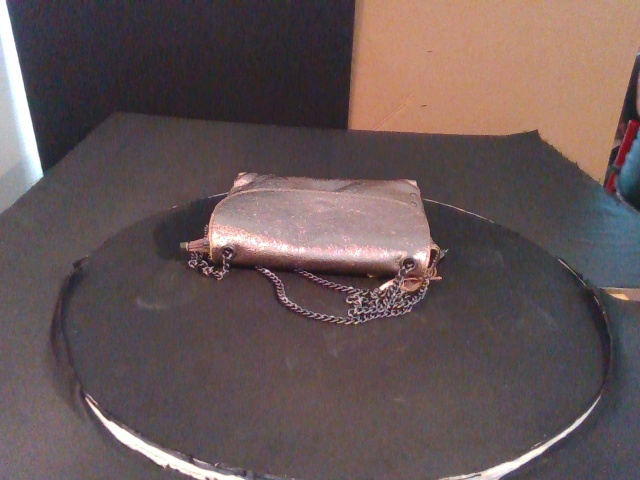bag: (204, 172, 433, 274)
